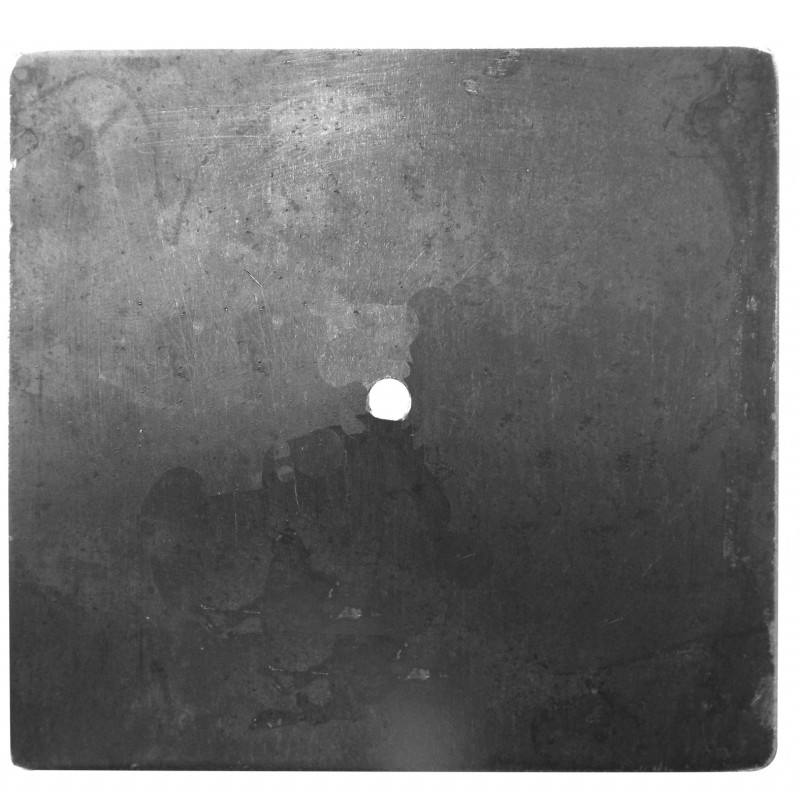hole: (363, 376, 415, 424)
